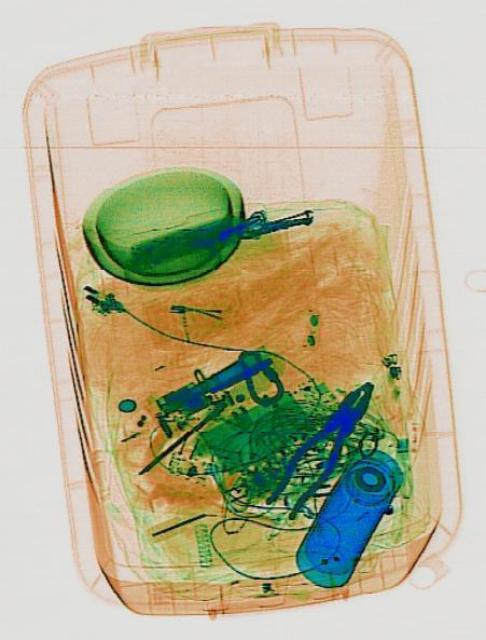Pliers: (259, 365, 382, 529)
